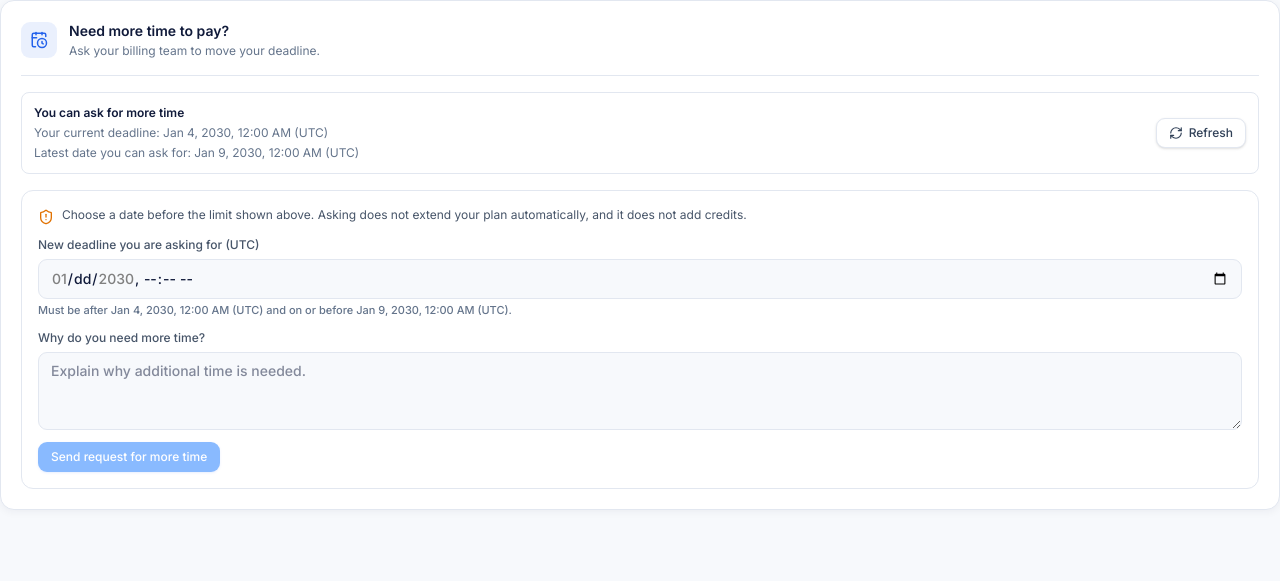
Scenario: subscription grace request › shows the server deadline bound and submits the current period/version with a reason
The image size is (1280, 581).
In the field labelled "New deadline you are asking for": (640, 279) [38, 259, 1242, 299], type "2030-01-05T12:30"
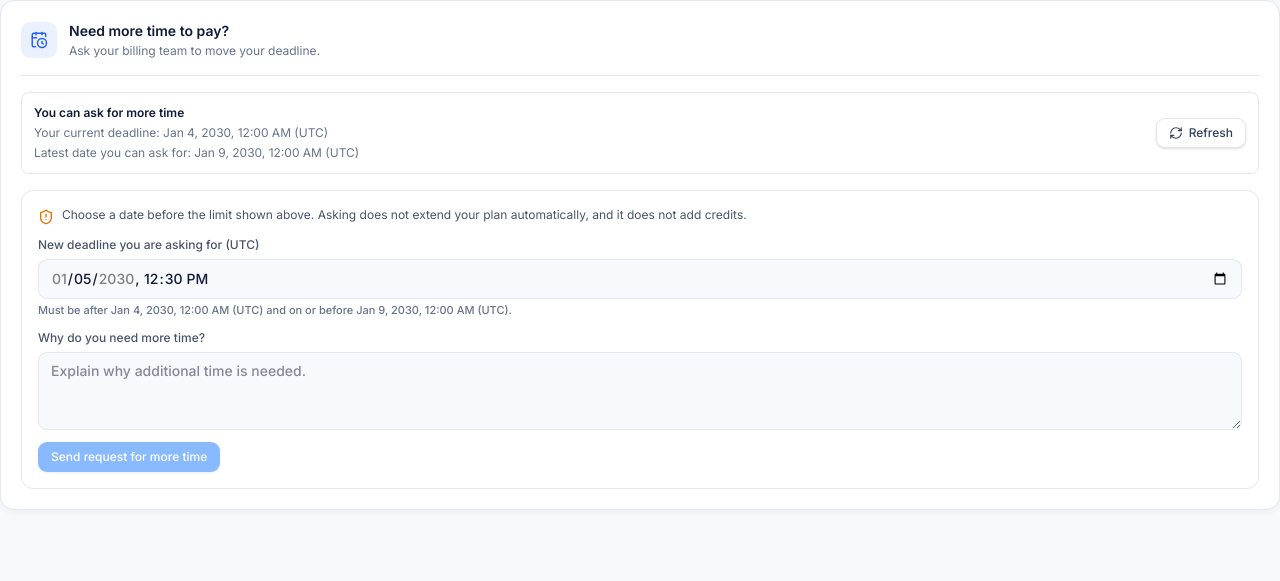
In the text box labelled "Why do you need more time?": (640, 391) [38, 352, 1242, 430], type "Bank transfer is being processed."
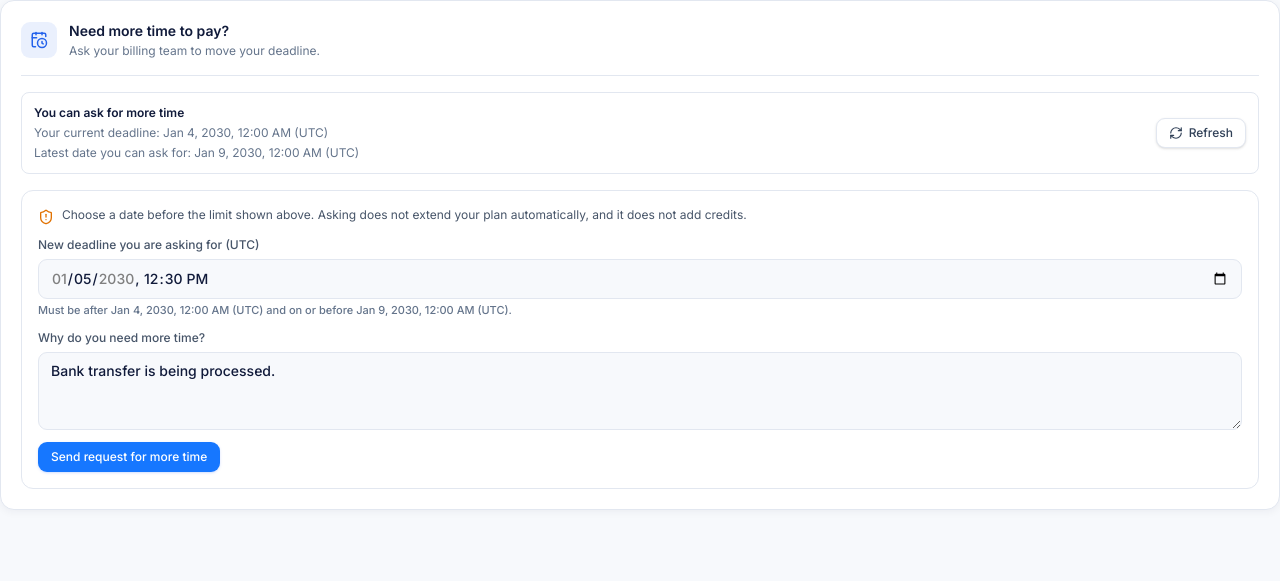
Click the button "Send request for more time": (129, 457) [38, 442, 220, 472]
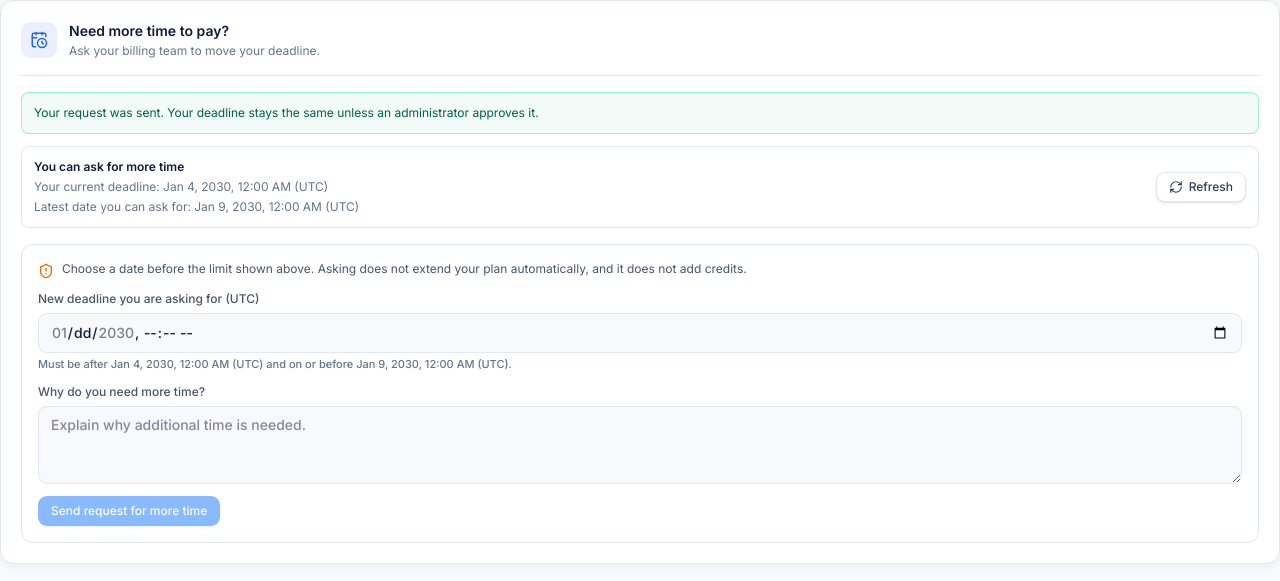
Result: the text "Your deadline stays the same unless" is shown at [34, 105, 539, 120]
